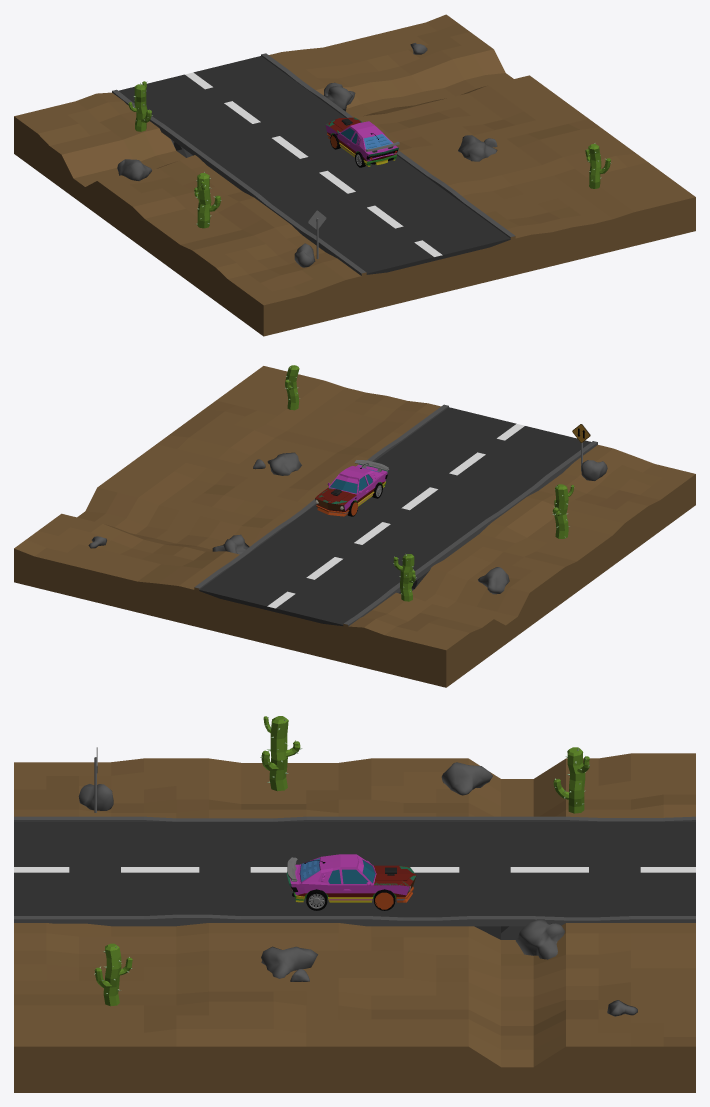
File: carfinal.glb
3 views of the same model, one above another, from view 1: azimuth 30°, elevation 25°; view 2: azimuth 150°, elevation 25°; view 3: azimuth 270°, elevation 25° (orthographic). The views are drawn at different scales.
Visible parts, largest first — view 1: Ground, Car_core_upper; view 2: Ground, Car_core_upper; view 3: Ground, Car_core_upper, Car_core_windows, Hood.001.
Boxes of the visible parts, box(x1,y1,x2,y2) form: Ground: box(14, 14, 695, 336); Car_core_upper: box(325, 121, 397, 161); Ground: box(14, 365, 695, 687); Car_core_upper: box(327, 464, 387, 510); Ground: box(14, 716, 695, 1092); Car_core_upper: box(289, 854, 409, 895); Car_core_windows: box(303, 860, 375, 883); Hood.001: box(374, 865, 413, 885).
Bounding box in the file's own units: 43.72 × 8.01 × 43.72.
